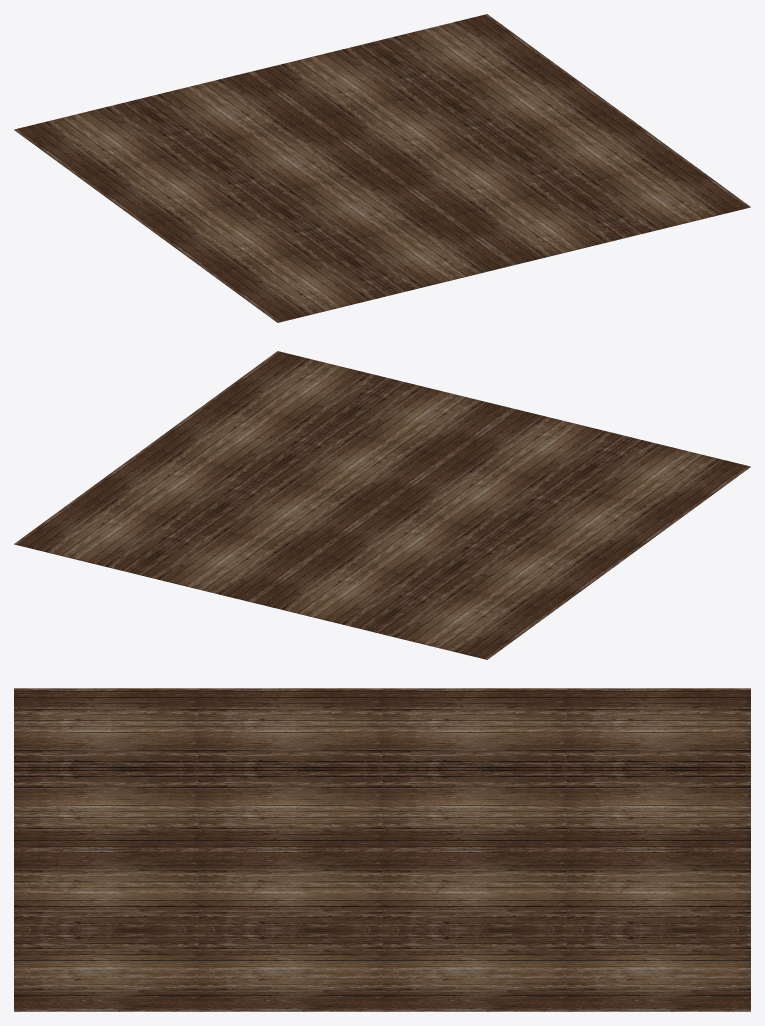
File: floorMod.fbx
3 views of the same model, one above another, from view 1: azimuth 30°, elevation 25°; view 2: azimuth 150°, elevation 25°; view 3: azimuth 270°, elevation 25° (orthographic). The views are drawn at different scales.
Visible parts, largest first — view 1: floor; view 2: floor; view 3: floor.
Boxes of the visible parts, bbox=[...] form: floor: bbox=[14, 14, 750, 322]; floor: bbox=[14, 351, 750, 659]; floor: bbox=[14, 688, 750, 1011].
Size of the model in its own units: 109 by 0.0938 by 105.
